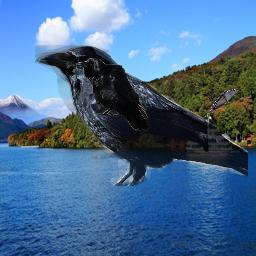Crow: (35, 45, 248, 186), (76, 58, 150, 131)
Cuckoo: (205, 89, 239, 118)
